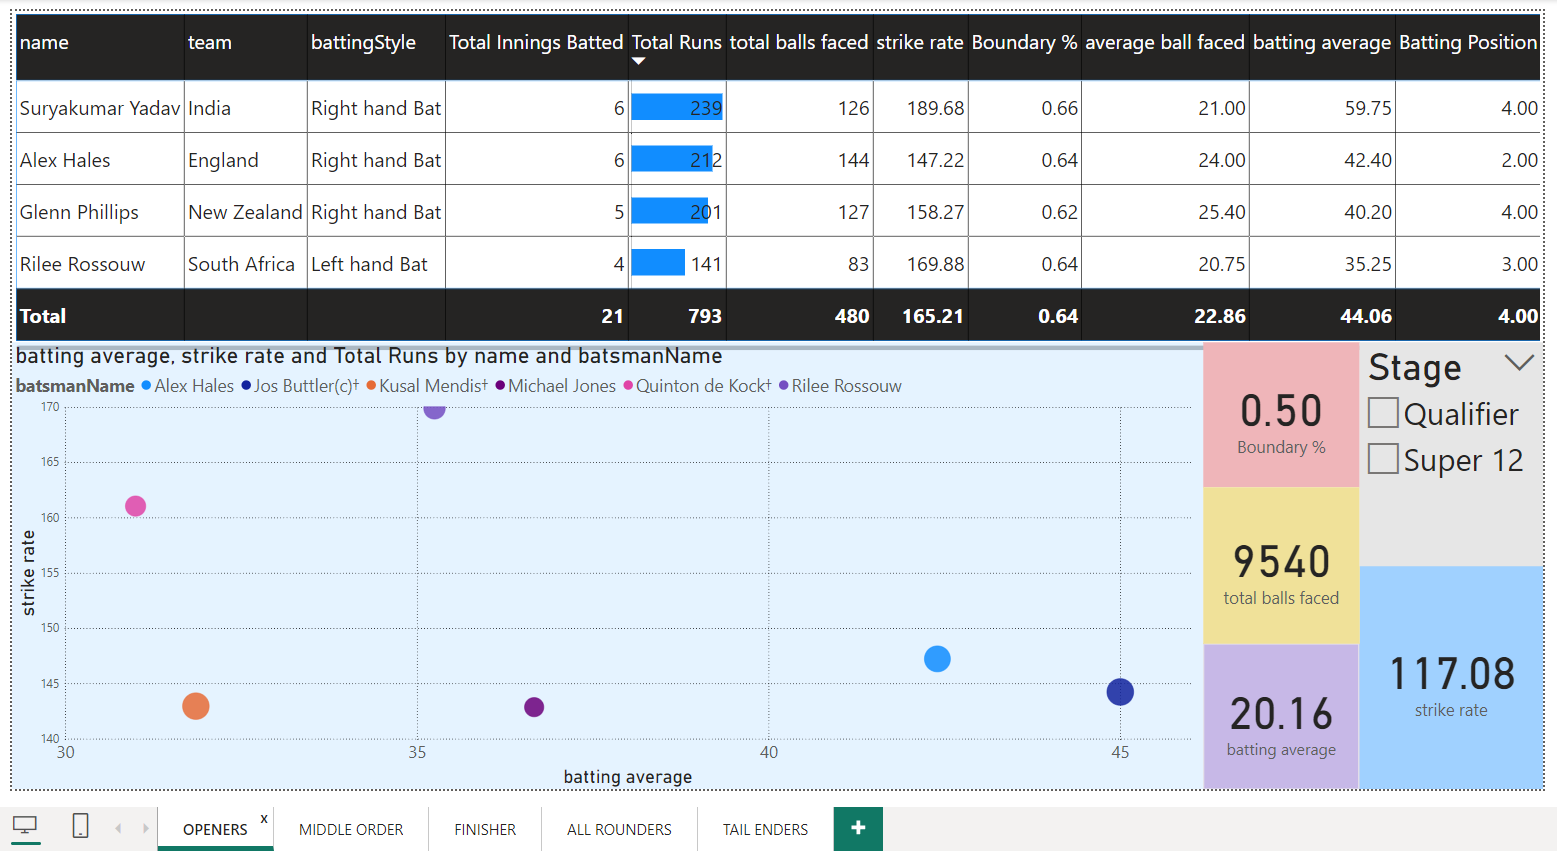

The dashboard page shown, as its layout file describes it:
{"tool":"powerbi","page":{"name":"OPENERS","canvas":[2450,1245],"ordinal":0},"visuals":[{"type":"tableEx","fields":{"Values":["player summary.name","player summary.team","player summary.battingStyle","Key Measure.Total Innings Batted","Key Measure.Total Runs","Key Measure.total balls faced","Key Measure.strike rate","Key Measure.Boundary %","Key Measure.average ball faced","Key Measure.batting average","Key Measure.Batting Position"]},"box":[0,0,2450,548],"z":0},{"type":"scatterChart","fields":{"X":["Key Measure.batting average"],"Category":["player summary.name"],"Y":["Key Measure.strike rate"],"Size":["Key Measure.Total Runs"],"Series":["batting summary.batsmanName"]},"box":[0,530,1906,716],"z":1000},{"type":"card","fields":{"Values":["Key Measure.batting average"]},"box":[1906,1012,250,234],"z":2000},{"type":"card","fields":{"Values":["Key Measure.Boundary %"]},"box":[1906,530,250,232],"z":3000},{"type":"card","fields":{"Values":["Key Measure.strike rate"]},"box":[2156,888,294,358],"z":4000},{"type":"card","fields":{"Values":["Key Measure.total balls faced"]},"box":[1906,762,250,250],"z":5000},{"type":"slicer","fields":{"Values":["match summary.Stage"]},"box":[2156,530,294,358],"z":6000}]}

Visuals, with their boxes on the page's 2450x1245 design canvas (x1, y1, x2, y2). These are canvas units, not pixel positions in the 1557x851 screenshot, which may show the page scaled, cropped or inside an application window:
tableEx - player summary.name x player summary.team: (0, 0, 2450, 548)
scatterChart - Key Measure.batting average x player summary.name: (0, 530, 1906, 1246)
card - Key Measure.batting average: (1906, 1012, 2156, 1246)
card - Key Measure.Boundary %: (1906, 530, 2156, 762)
card - Key Measure.strike rate: (2156, 888, 2450, 1246)
card - Key Measure.total balls faced: (1906, 762, 2156, 1012)
slicer - match summary.Stage: (2156, 530, 2450, 888)
